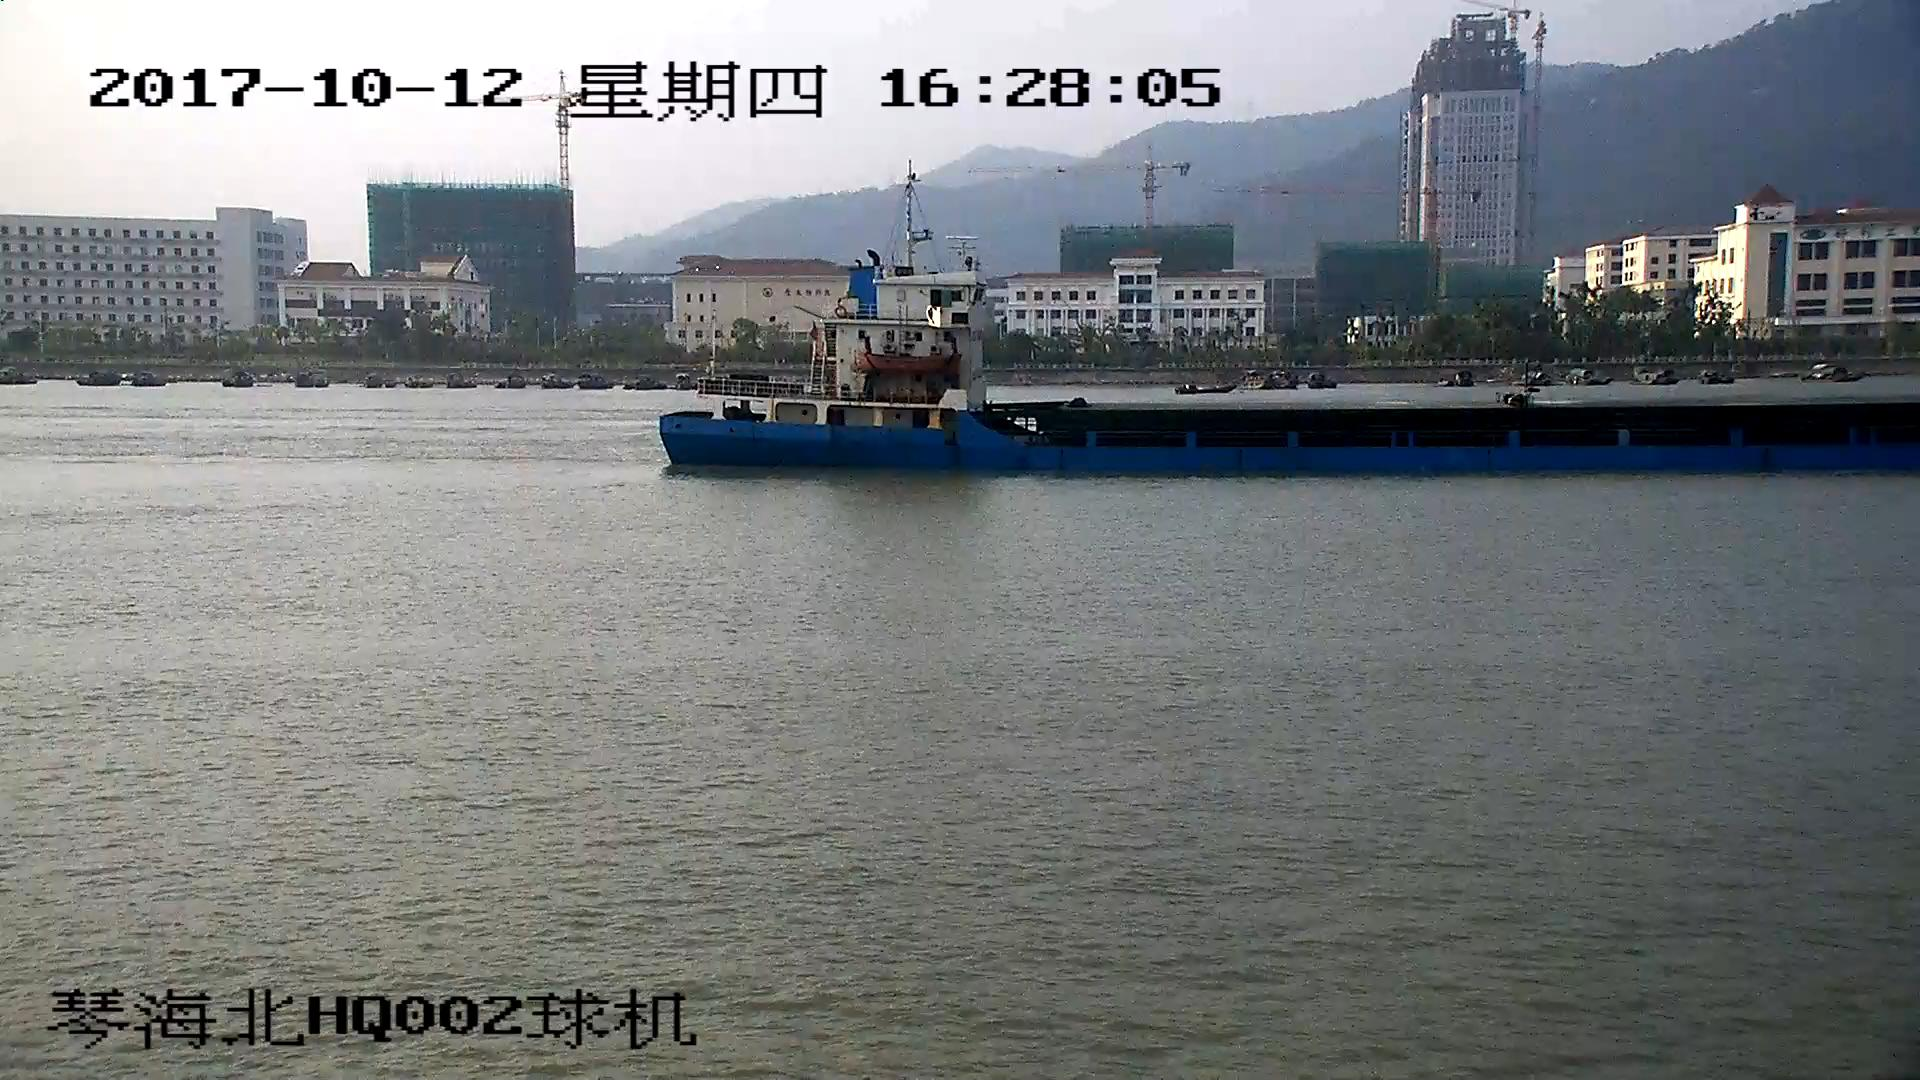general cargo ship: (656, 184, 1920, 478)
